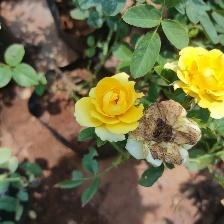rose: (74, 71, 146, 146), (173, 41, 224, 119)
